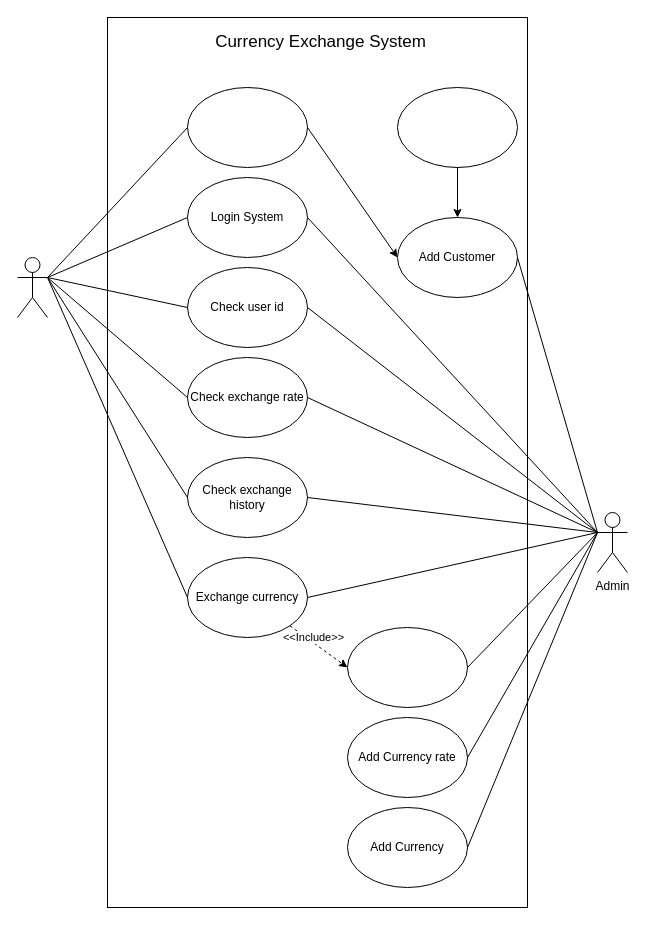
This 647x925 diagram has some shape labels left out. The box of each missing label's shape, as (x1, y1, x2, y2) in pixels:
Add Currency exchange record: (346, 626, 468, 708)
Sign up: (186, 86, 308, 168)
User: (16, 256, 48, 318)
User Bank account: (396, 86, 518, 168)
